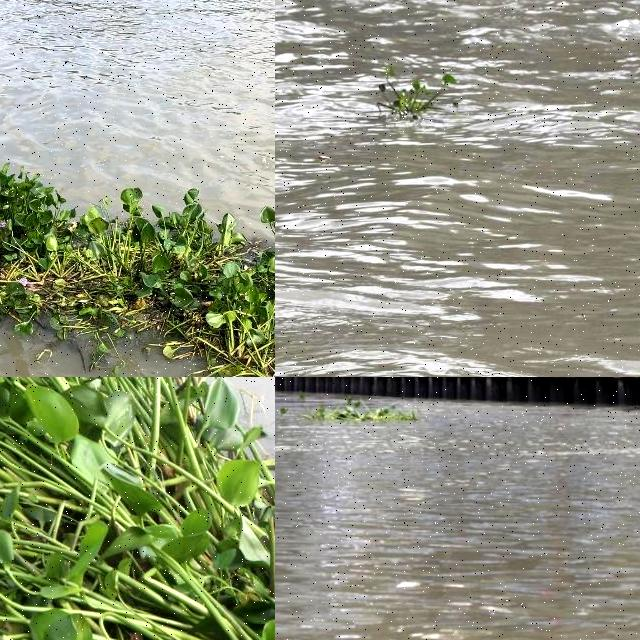water-hyacinth: (1, 378, 276, 640), (1, 151, 276, 378), (279, 394, 429, 428), (377, 75, 457, 121)
